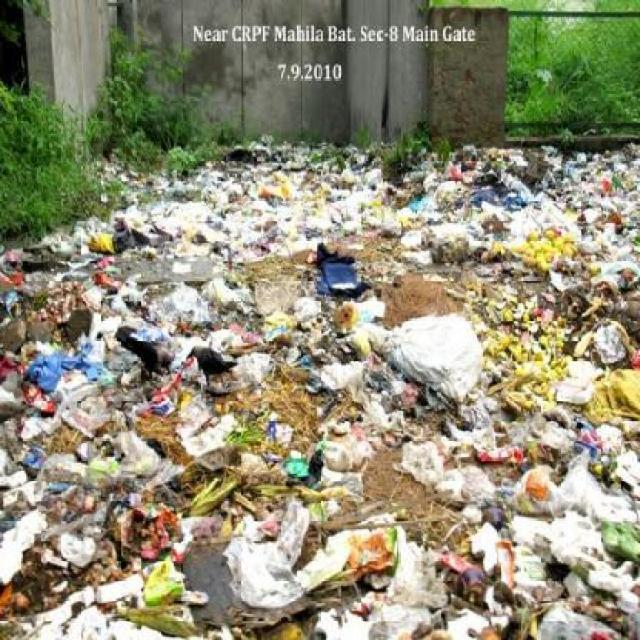garbage: (26, 238, 622, 620), (206, 137, 630, 294)
